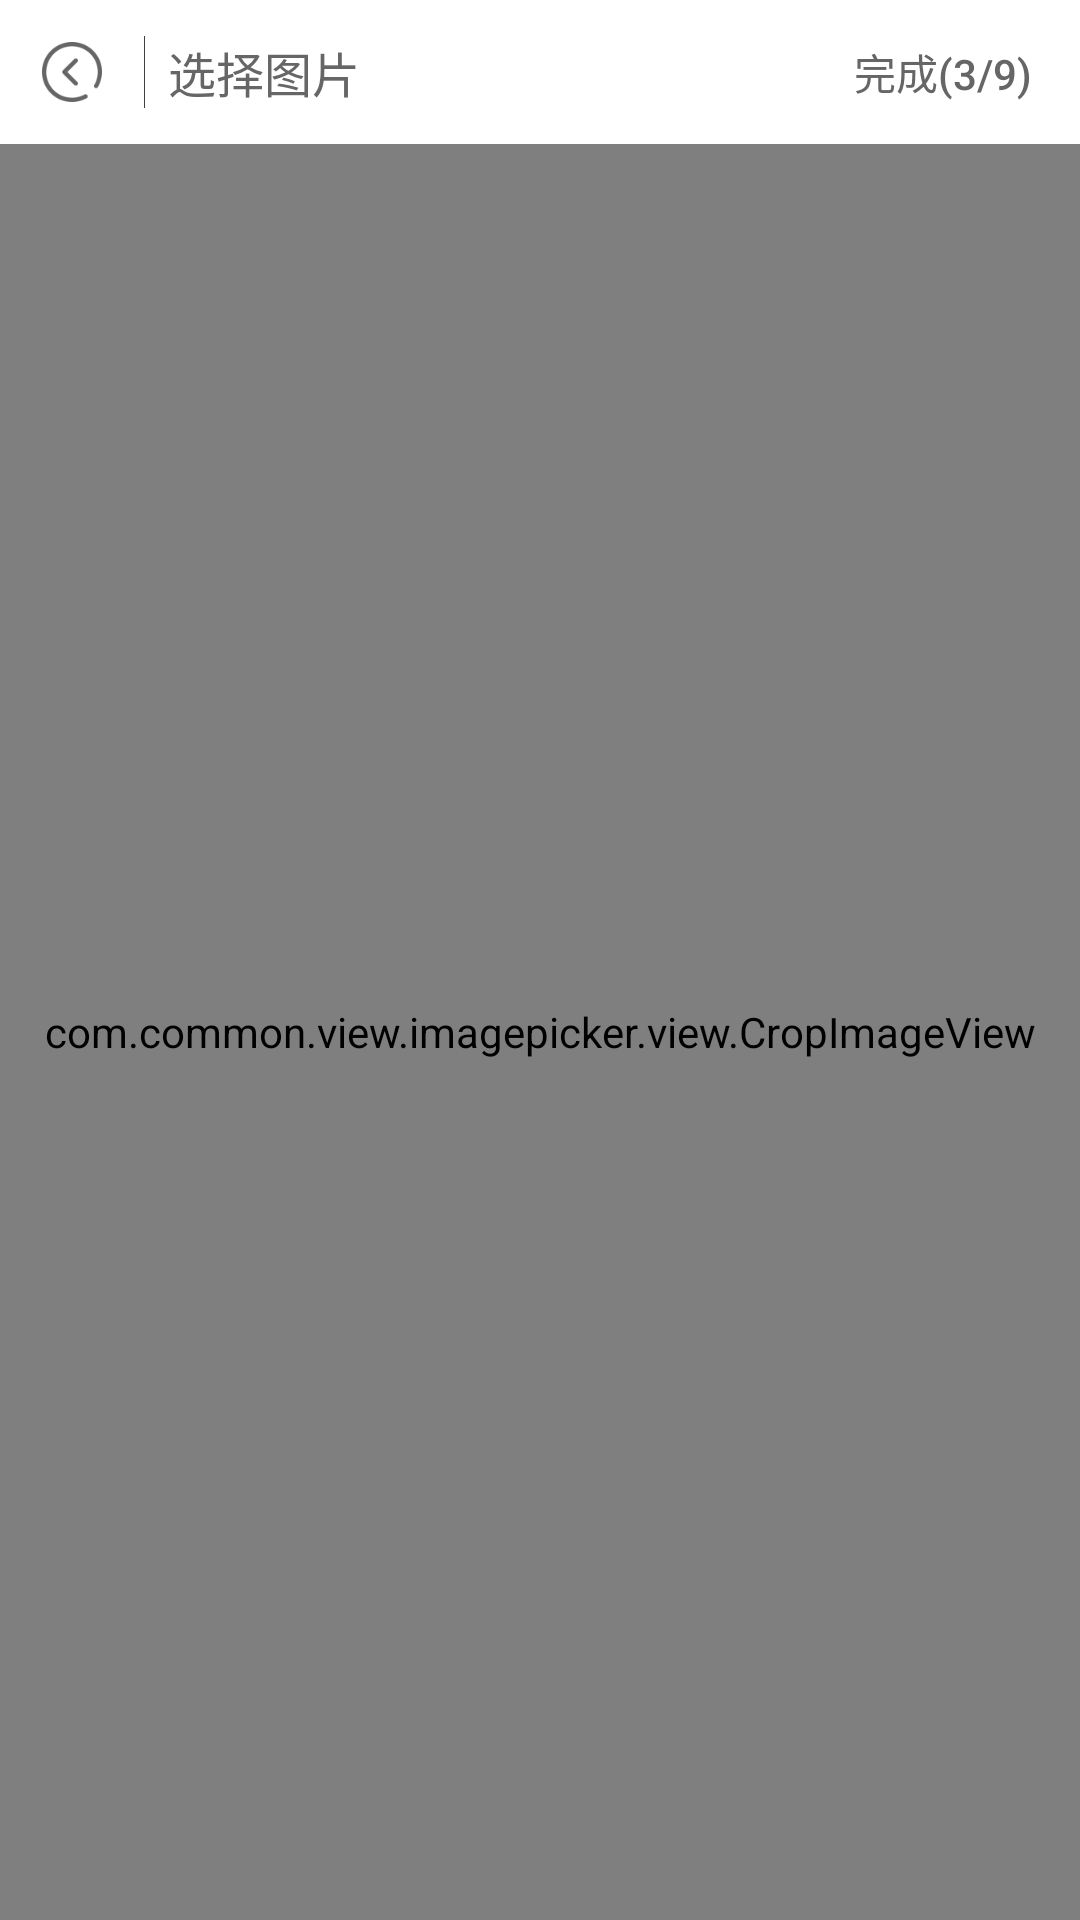

Point at icon controls on the screen. Image size 1080px×1920px, points as (x=x, y=y).
back arrow: (x=72, y=72)
